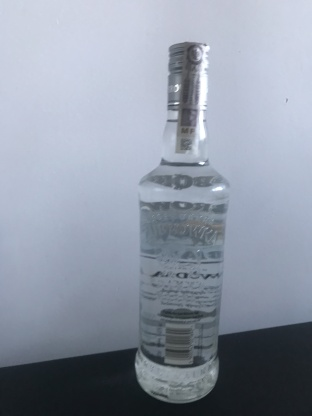nakretka: (164, 38, 212, 114)
